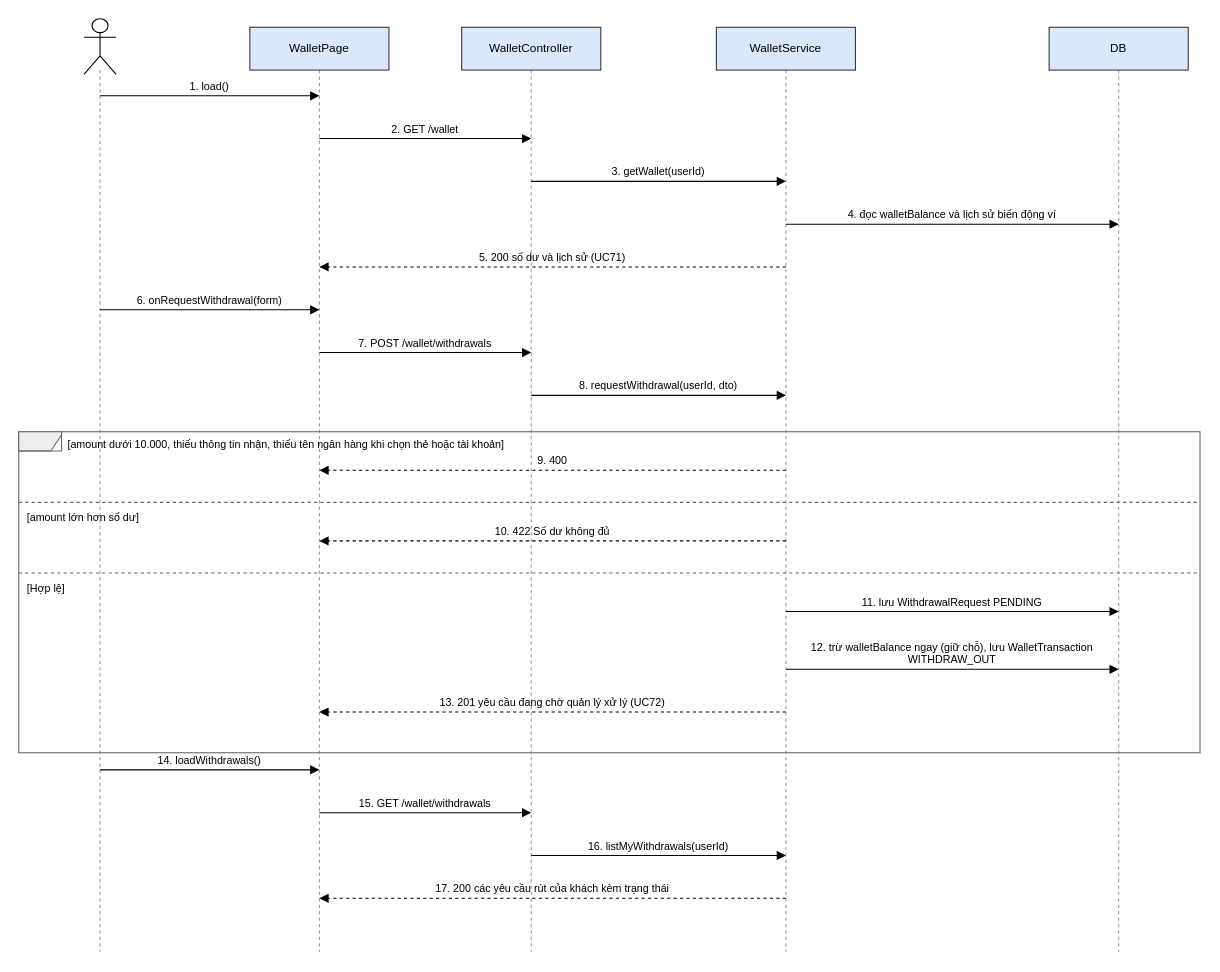
The diagram is 1220 pixels wide and 972 high, and some of its shapes have lost their labels. The centre of each missing label's shape, as x and y in pixels:
alt: point (40, 441)
Khách hàng: point (99, 46)
